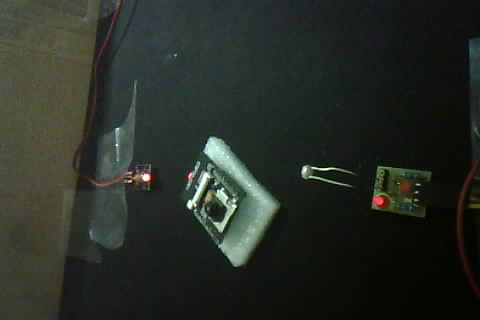esp32: (171, 144, 257, 264)
